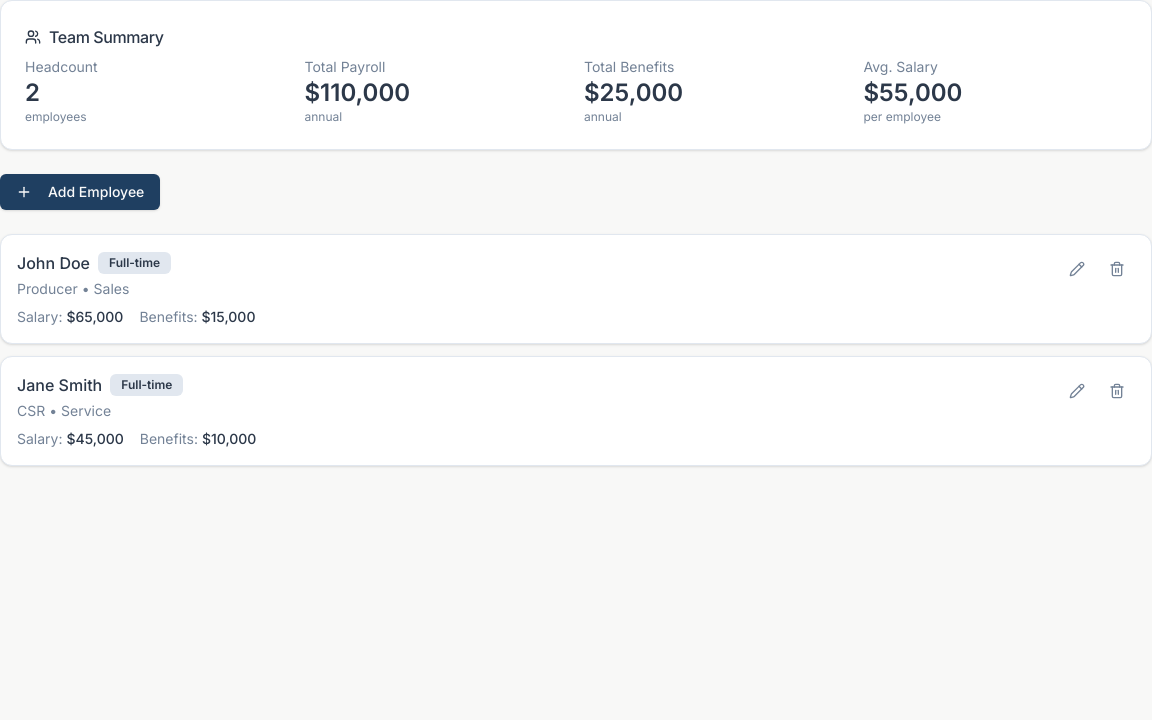
EmployeeList › shows delete confirmation dialog when delete clicked
What coordinates should you click on to do the following:
click the button named "Delete employee" in the row of "Sales"
I would click on:
 (1117, 269)
Its box is [1099,251,1135,287].
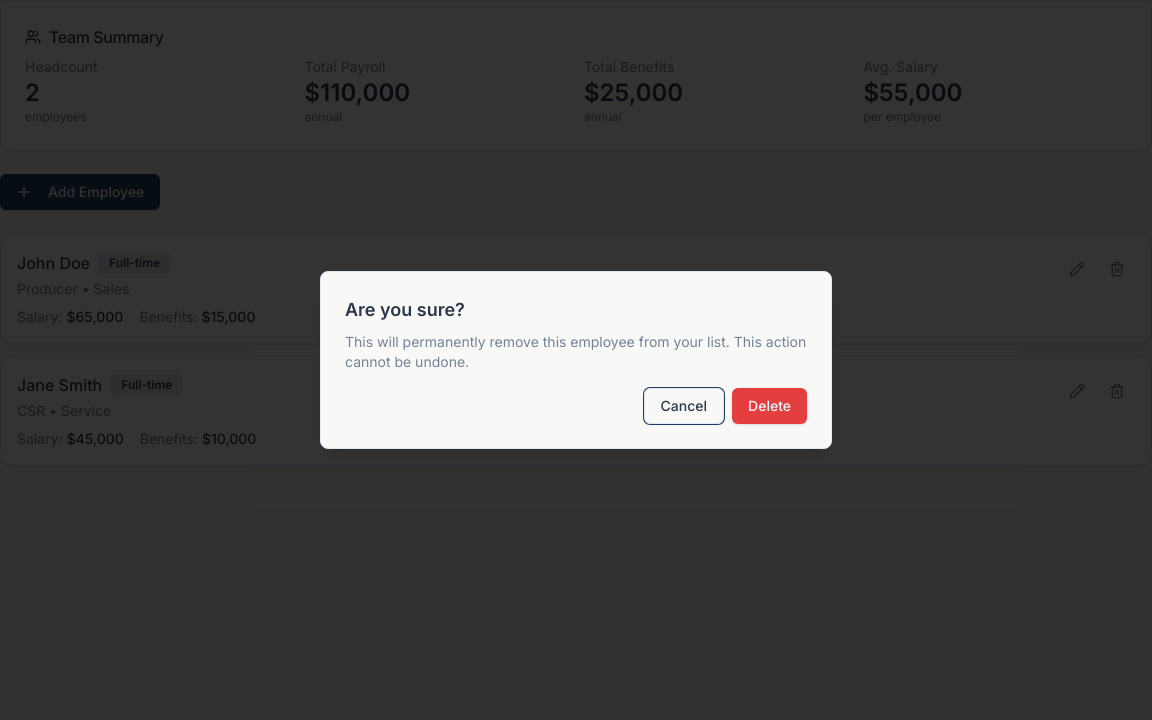
Now the heading "Are you sure?" is shown, box [345,299,465,320]
